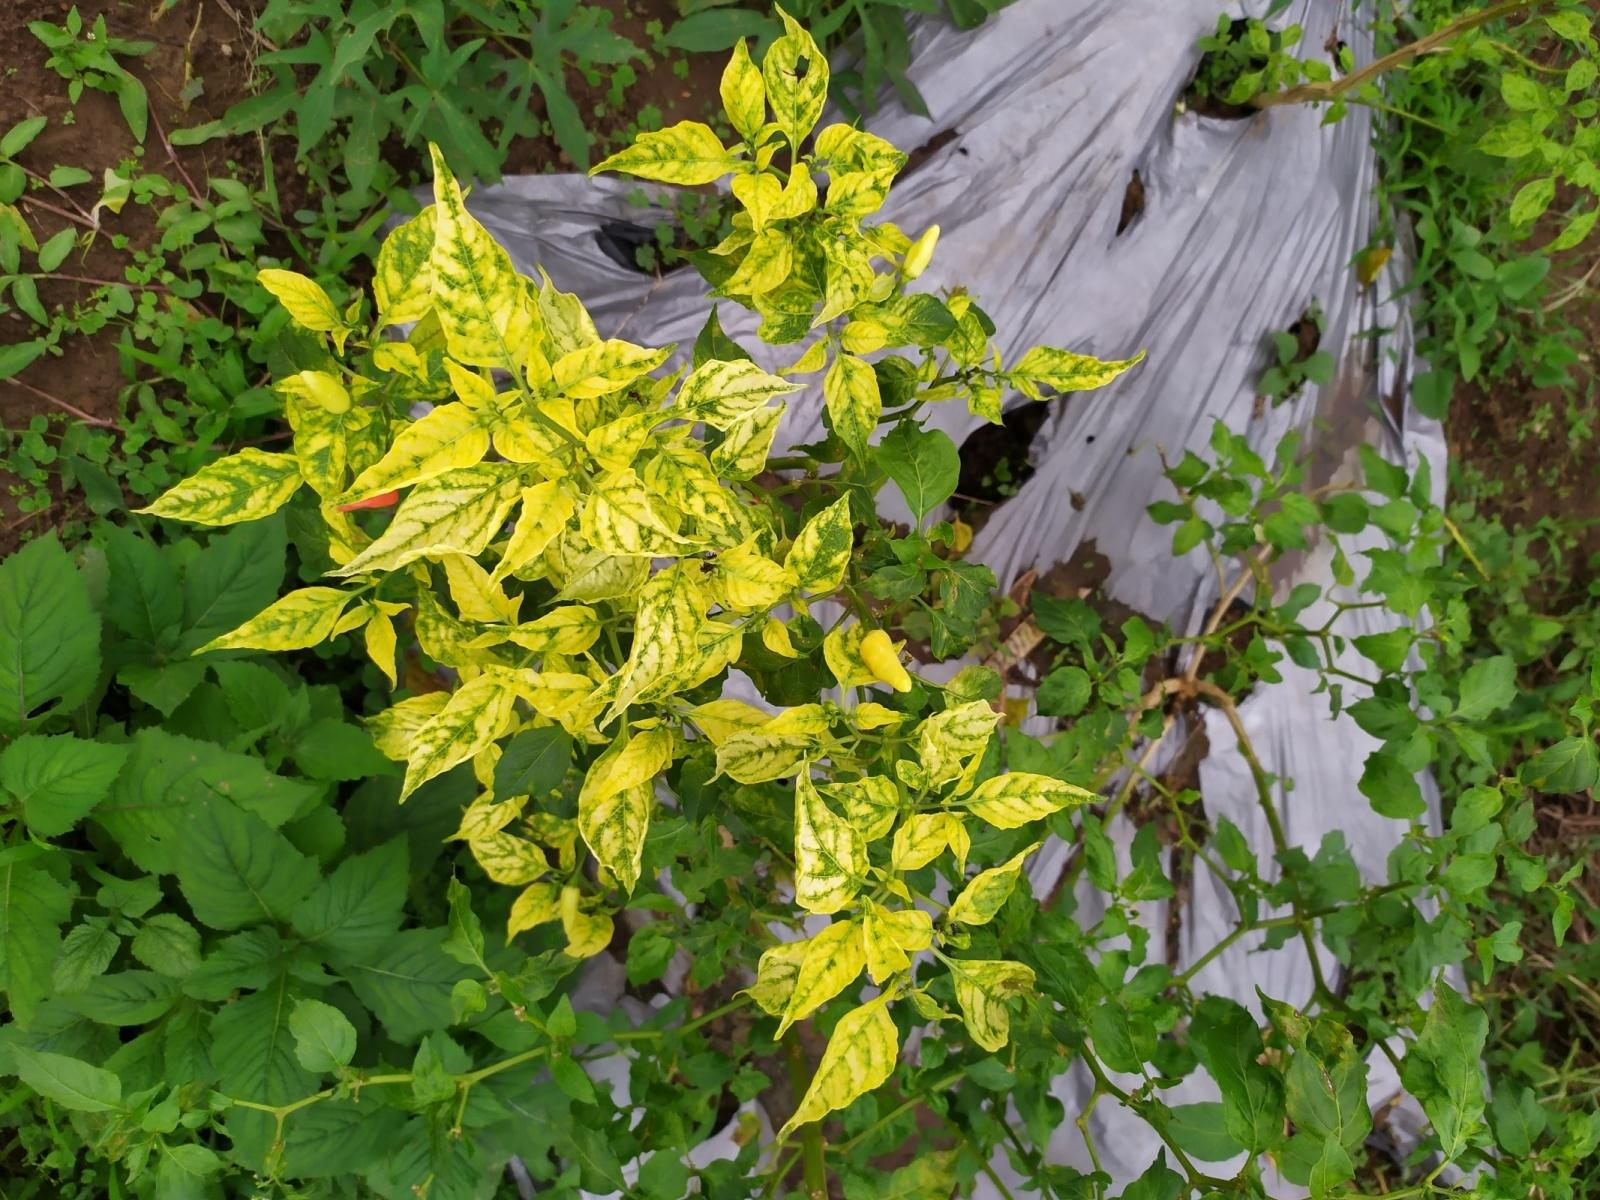cabai_normal: (858, 629, 912, 692), (300, 369, 351, 415), (902, 224, 941, 280)
